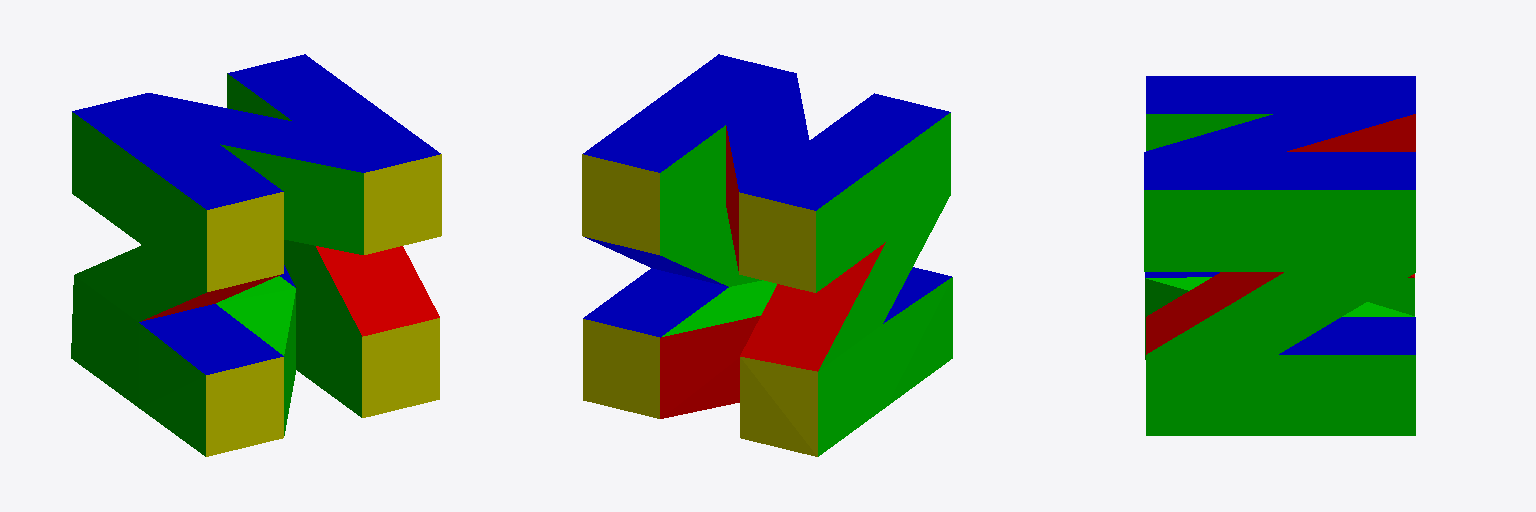
File: bign.obj
3 renders of one model, left to right at view 1: azimuth 30°, elevation 25°; view 2: azimuth 150°, elevation 25°; view 3: azimuth 270°, elevation 25°, orthographic.
Visible parts, largest first — view 1: Cube_Cube; view 2: Cube_Cube; view 3: Cube_Cube.
Part boxes in pixels (x1,y1,x2,y2): Cube_Cube: (71,54,441,456); Cube_Cube: (582,54,952,456); Cube_Cube: (1144,76,1415,435).
Bounding box in the file's own units: 6.01 × 6.03 × 6.05.